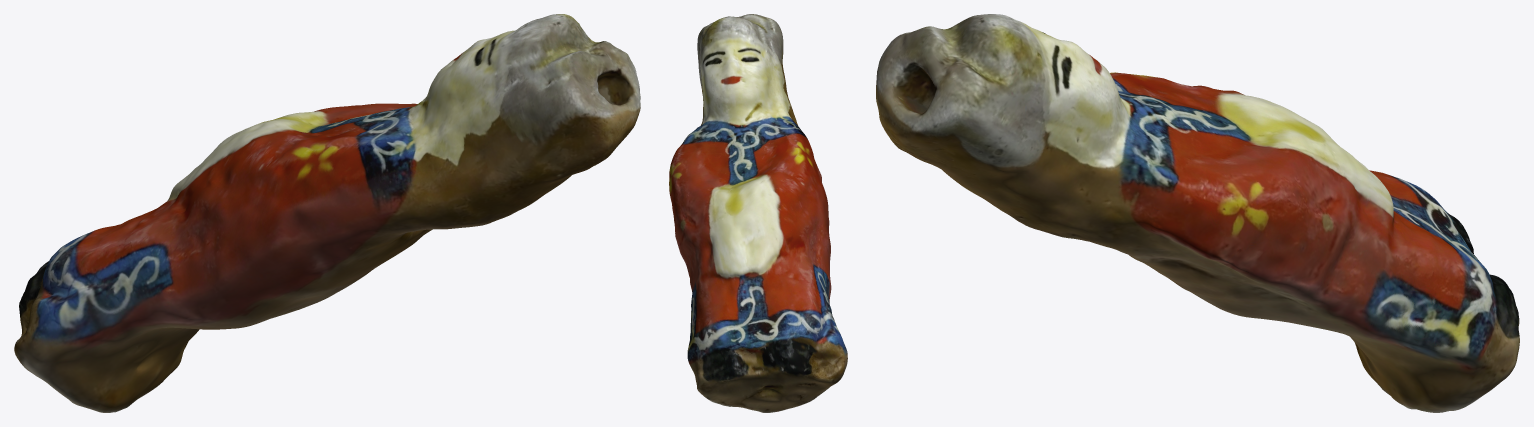
3 views of the same model, side by side, from view 1: azimuth 30°, elevation 25°; view 2: azimuth 150°, elevation 25°; view 3: azimuth 270°, elevation 25° (orthographic). The views are drawn at different scales.
Bounding box in the file's own units: 0.5708 × 0.5912 × 0.6727.
1 material, 1 textured.
